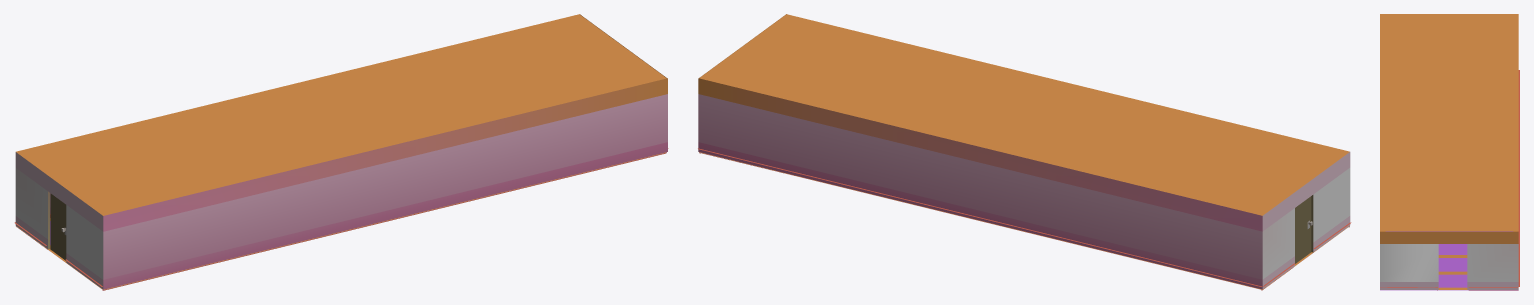
Rendered from hallway-with-door.fbx.
3 views of the same model, side by side, from view 1: azimuth 30°, elevation 25°; view 2: azimuth 150°, elevation 25°; view 3: azimuth 270°, elevation 25° (orthographic). The views are drawn at different scales.
Visible parts, largest first — view 1: Cube.001, door; view 2: Cube.001, door; view 3: Cube.001.
Part boxes in pixels (left/top/right/bottom): Cube.001: left=14, top=14, right=668, bottom=290; door: left=50, top=193, right=66, bottom=260; Cube.001: left=698, top=14, right=1351, bottom=290; door: left=1295, top=196, right=1312, bottom=263; Cube.001: left=1380, top=14, right=1519, bottom=290.
Size of the model in its own units: 24.13 by 3.07 by 6.52.
